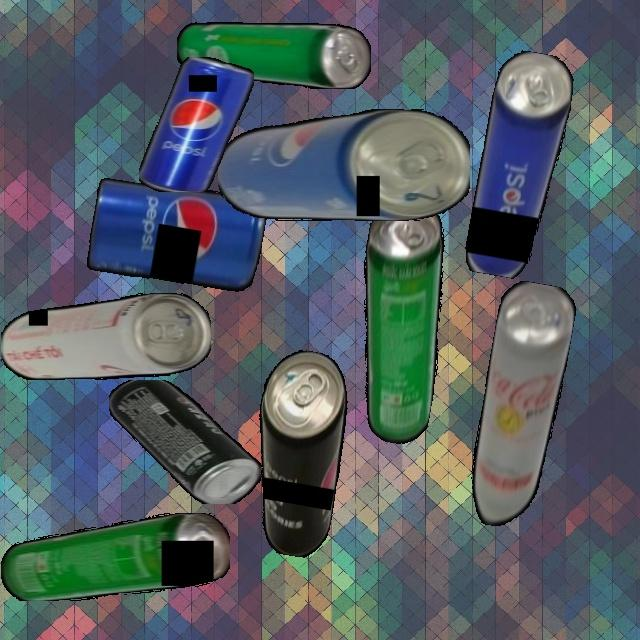debris: (334, 197, 465, 448), (462, 278, 579, 533), (217, 109, 470, 221), (462, 47, 579, 283), (236, 345, 359, 561), (84, 171, 269, 298), (0, 513, 230, 601), (109, 379, 261, 504), (0, 293, 211, 380), (139, 56, 254, 192), (176, 20, 371, 89)
